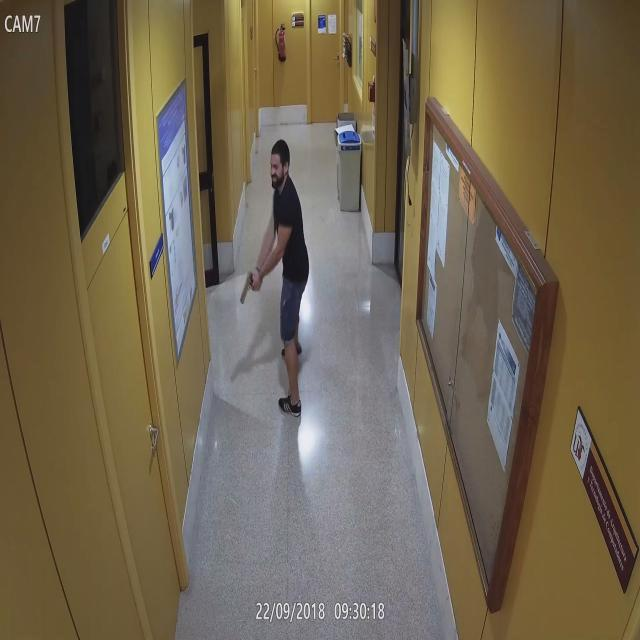weapon: (238, 274, 261, 304)
